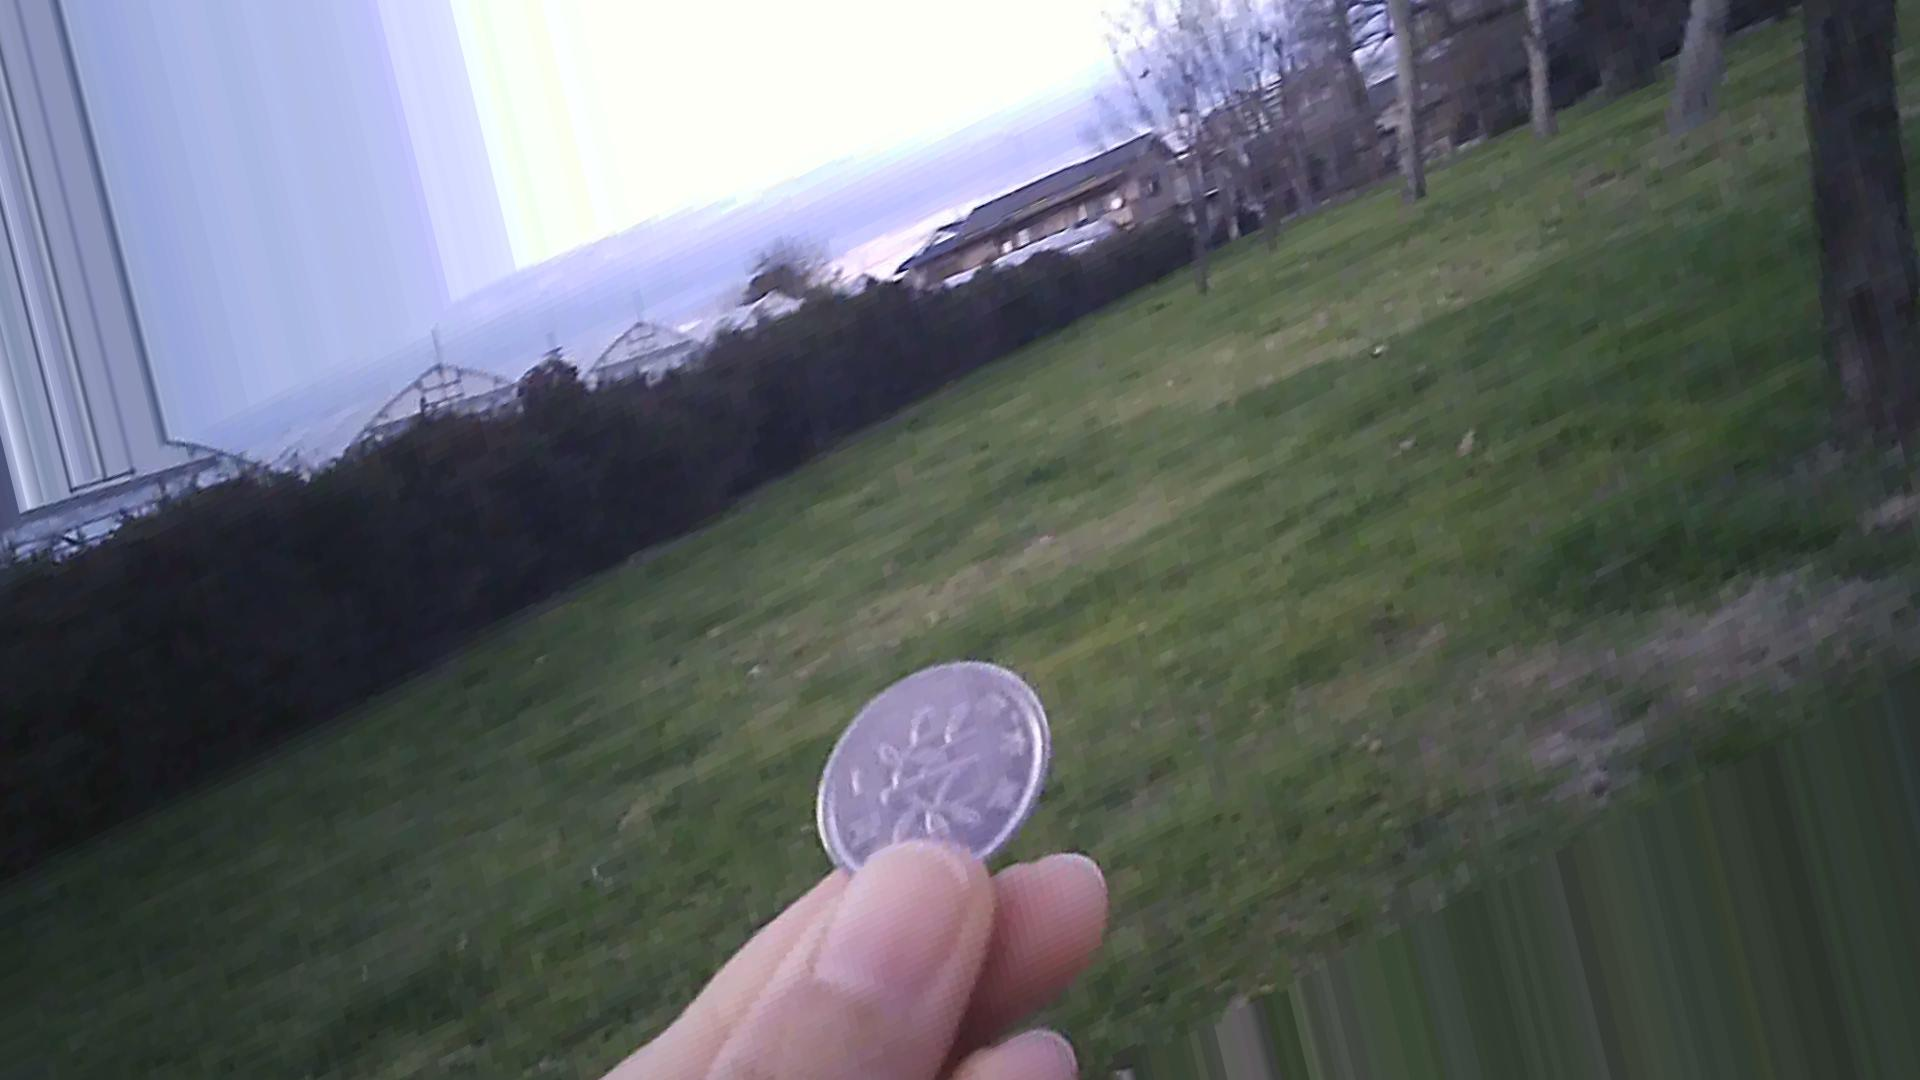1 Yen: (818, 651, 1047, 909)
